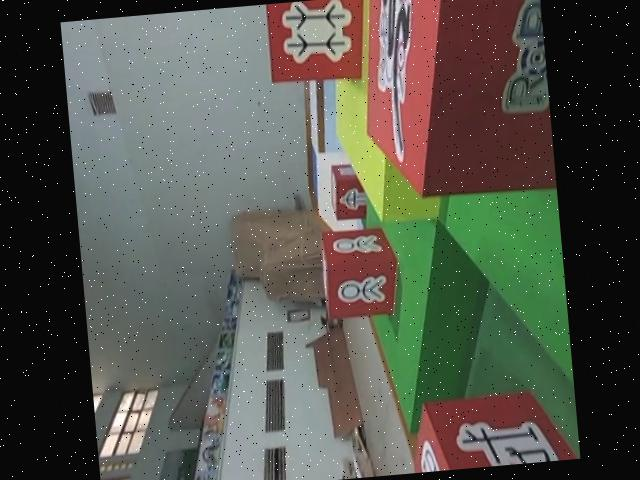R1: (349, 0, 557, 217)
R2 Fake: (325, 161, 377, 222)
R2 Real: (405, 385, 580, 473), (258, 0, 376, 85), (314, 225, 404, 321)
